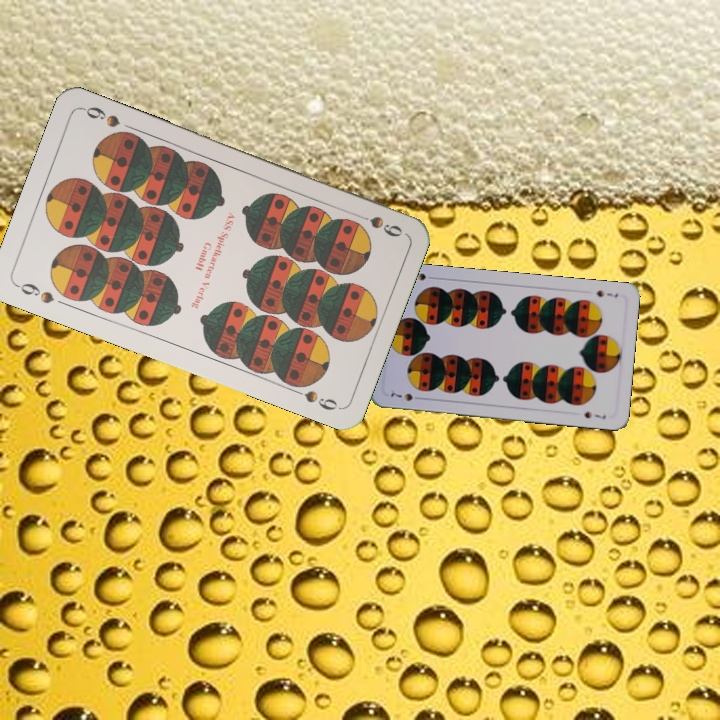S7: (386, 389, 425, 404), (592, 286, 620, 300)
S9: (349, 209, 405, 240), (12, 278, 57, 306)
